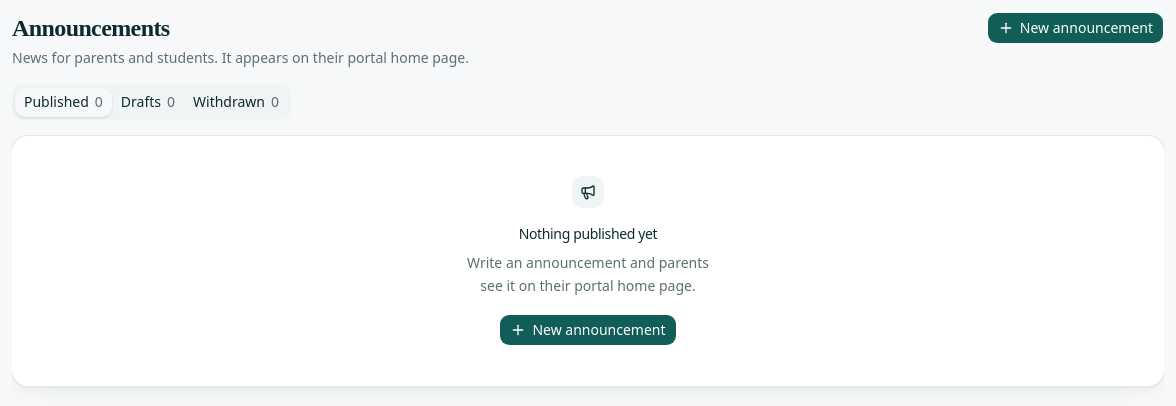
Test: AnnouncementsPage list › shows the Withdrawn empty state
Click the tab "Withdrawn 0": (236, 102) x1=184 y1=88 x2=288 y2=116
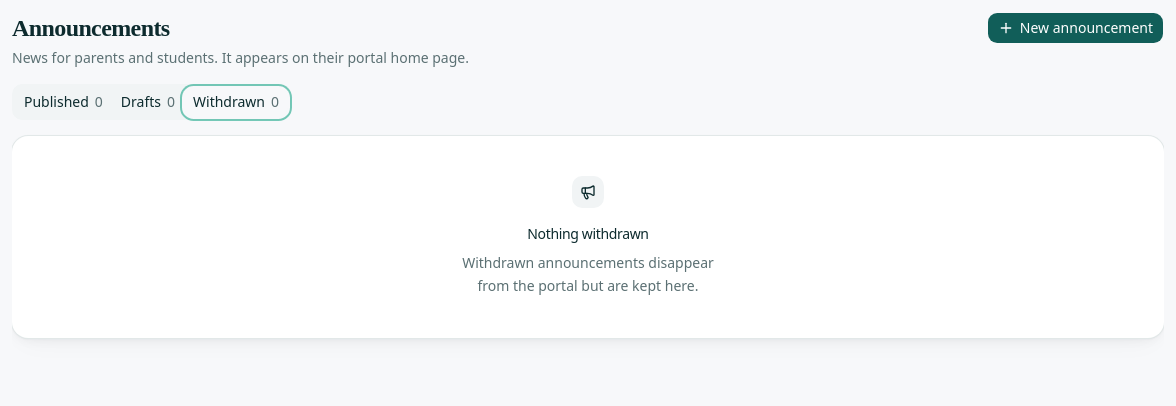
Now the text "Nothing withdrawn" is shown, box x1=527 y1=224 x2=649 y2=244
